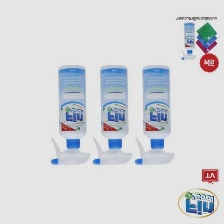cleaning_solution: (45, 62, 92, 169), (87, 62, 133, 167), (131, 61, 175, 168), (179, 20, 198, 62)
